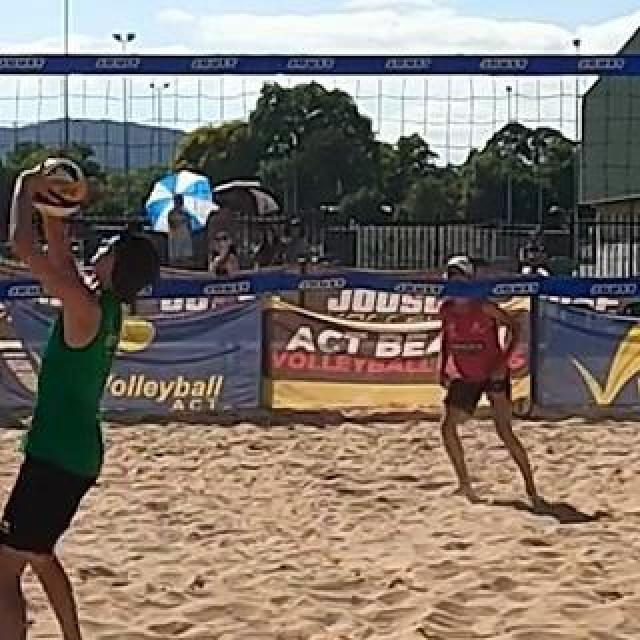volleyball: (24, 156, 86, 216)
